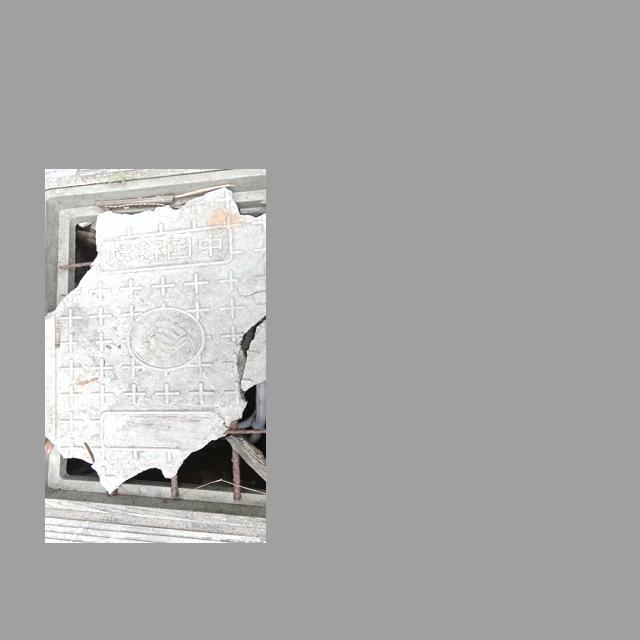broke: (45, 175, 265, 521)
